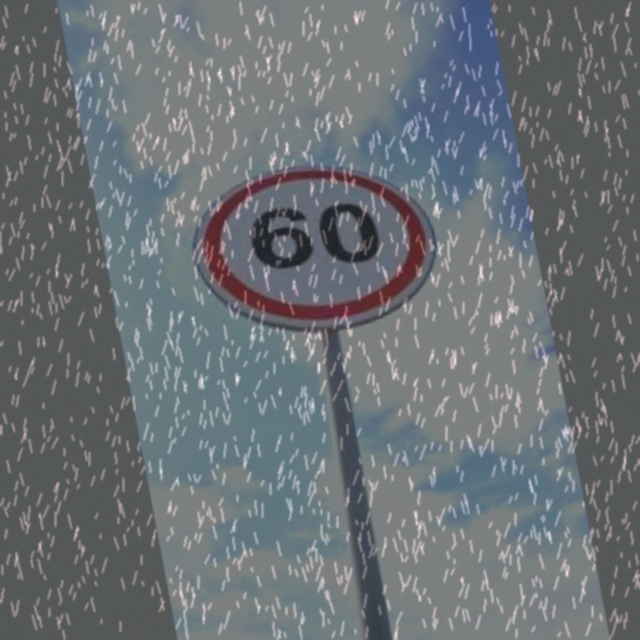Speed_Limit_60: (184, 135, 458, 352)
